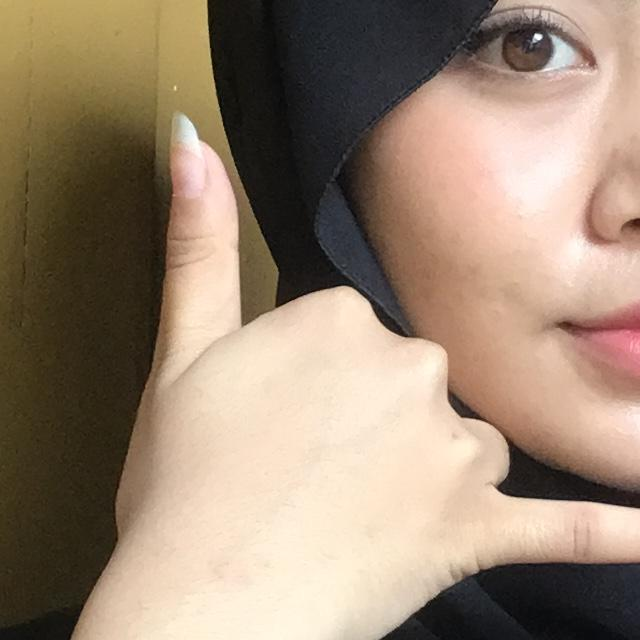telpon: (70, 66, 640, 640)
